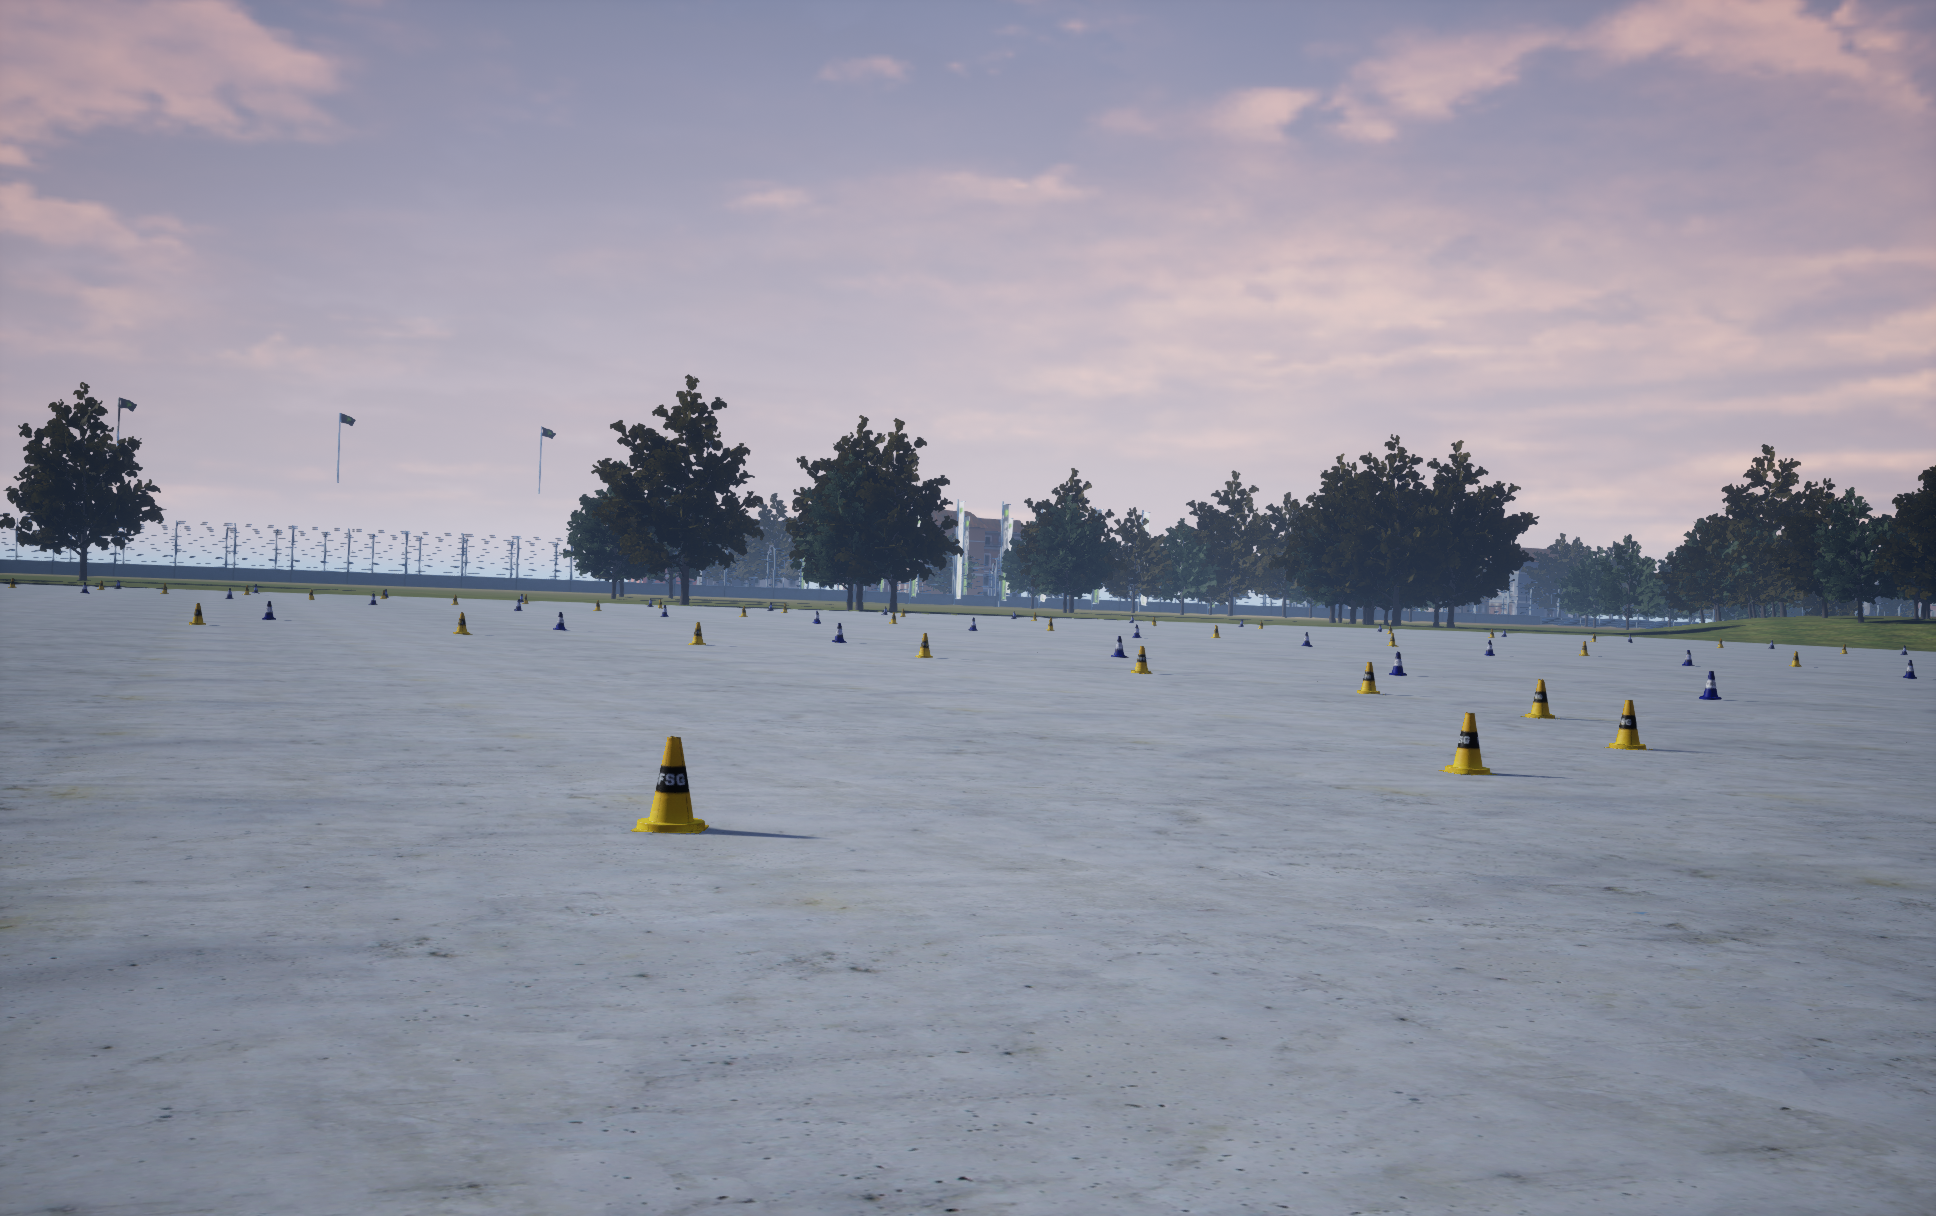blue: (630, 735, 707, 834), (1439, 712, 1498, 773), (1604, 700, 1652, 749), (1520, 679, 1559, 719), (1357, 663, 1384, 693), (1131, 646, 1152, 672), (452, 612, 472, 635), (915, 633, 932, 657), (688, 622, 705, 644), (189, 602, 205, 623)
yellow: (1699, 671, 1722, 699), (1390, 651, 1406, 675), (1111, 636, 1128, 657), (832, 623, 846, 642), (262, 601, 275, 619), (553, 612, 566, 630)
